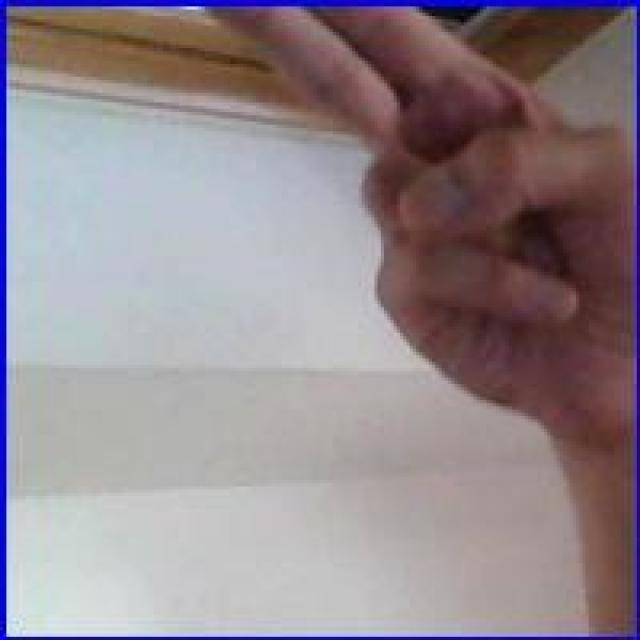H: (200, 7, 632, 454)
